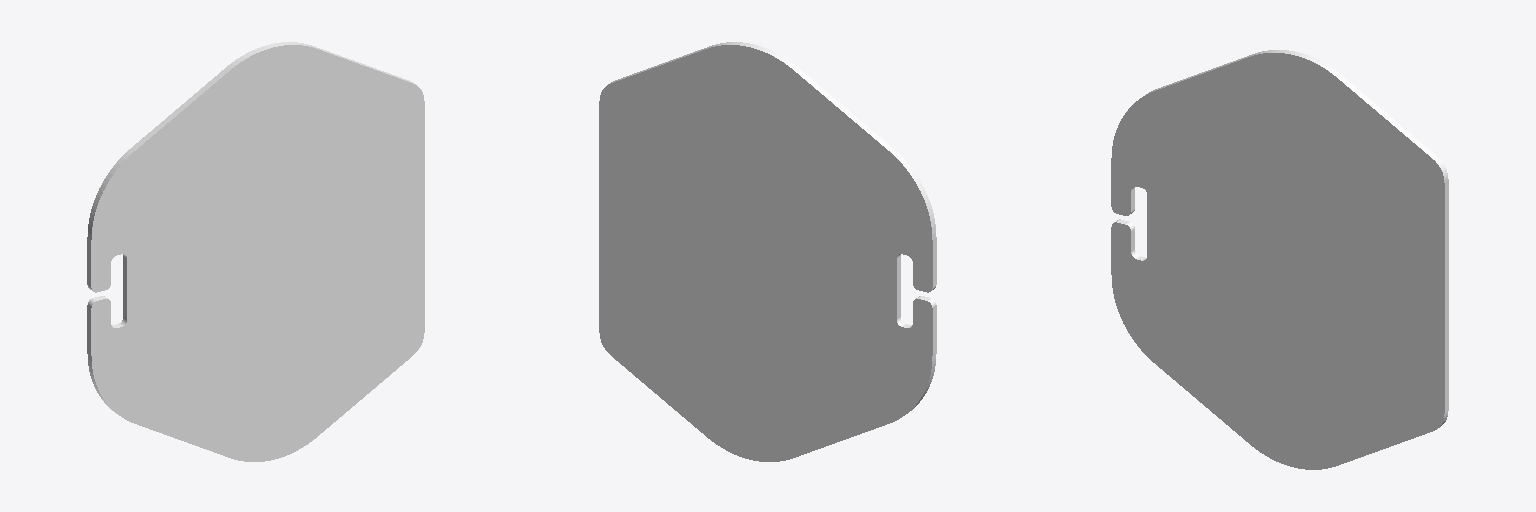
Rendered from plate_middle.obj.
3 views of the same model, side by side, from view 1: azimuth 30°, elevation 25°; view 2: azimuth 150°, elevation 25°; view 3: azimuth 330°, elevation 25° (orthographic).
Size of the model in its own units: 0.2873 by 0.34 by 0.006.